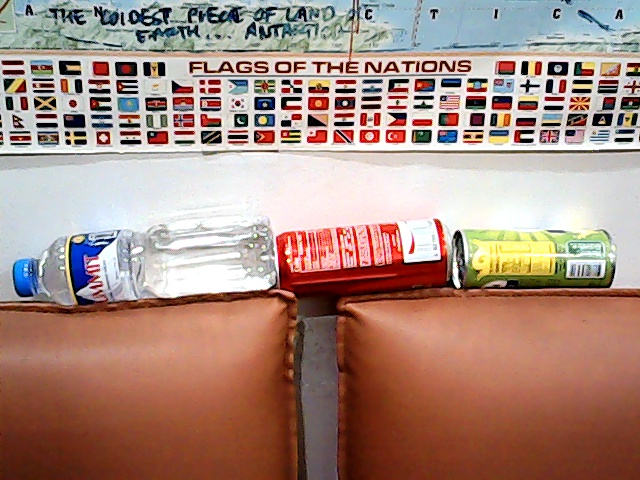Cola: (274, 212, 454, 299)
Pine Juice: (451, 223, 618, 292)
Summit Water: (10, 223, 284, 301)
